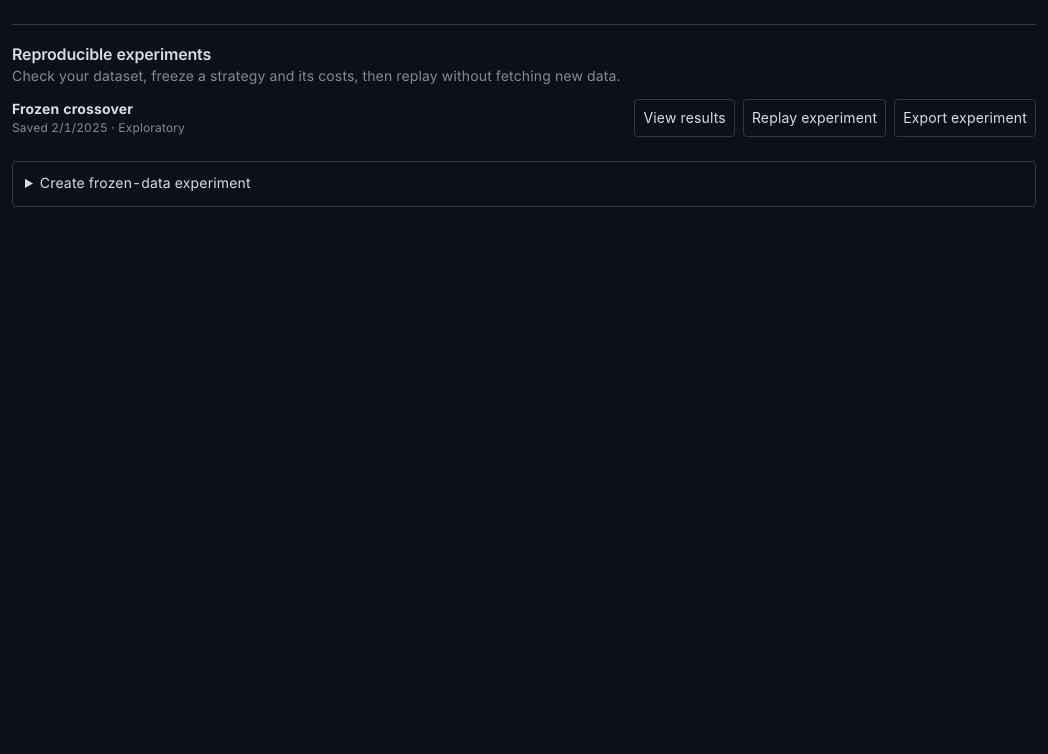
Test: keeps exploratory status visible in saved results
Click the button "View results": (685, 118) [634, 99, 735, 137]
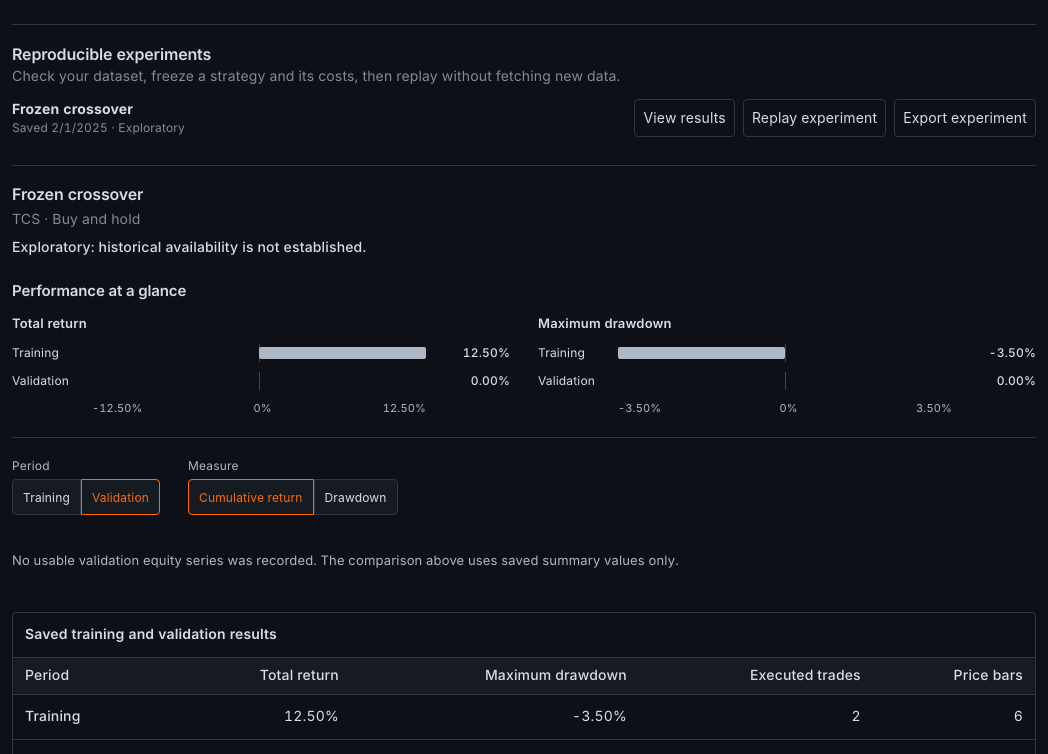
Check: the text "Exploratory: historical availability is not established." is shown, box [12, 239, 366, 256]
Check: the text "TCS · Buy and hold" is shown, box [12, 211, 140, 228]
